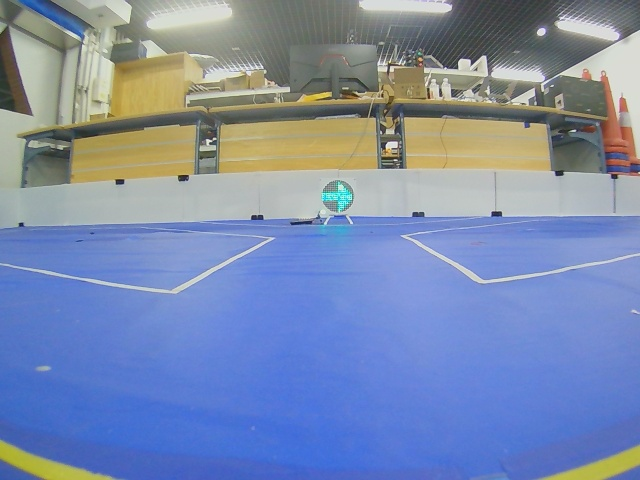right_green: (321, 180, 355, 213)
